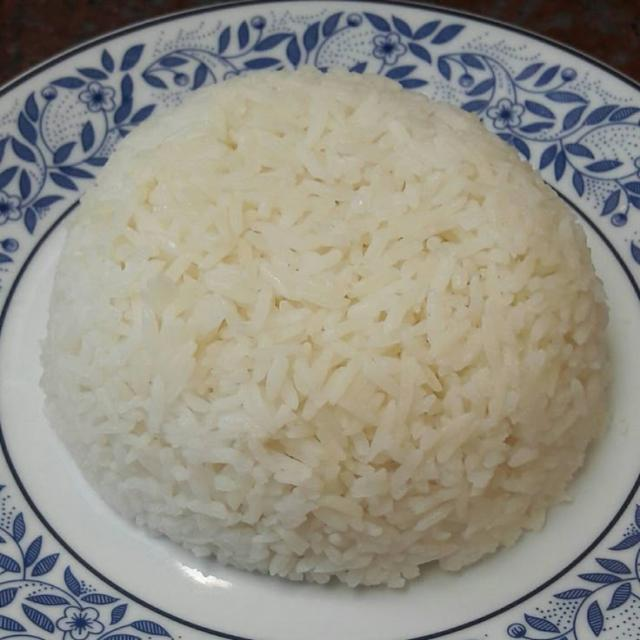rice: (43, 70, 606, 585)
